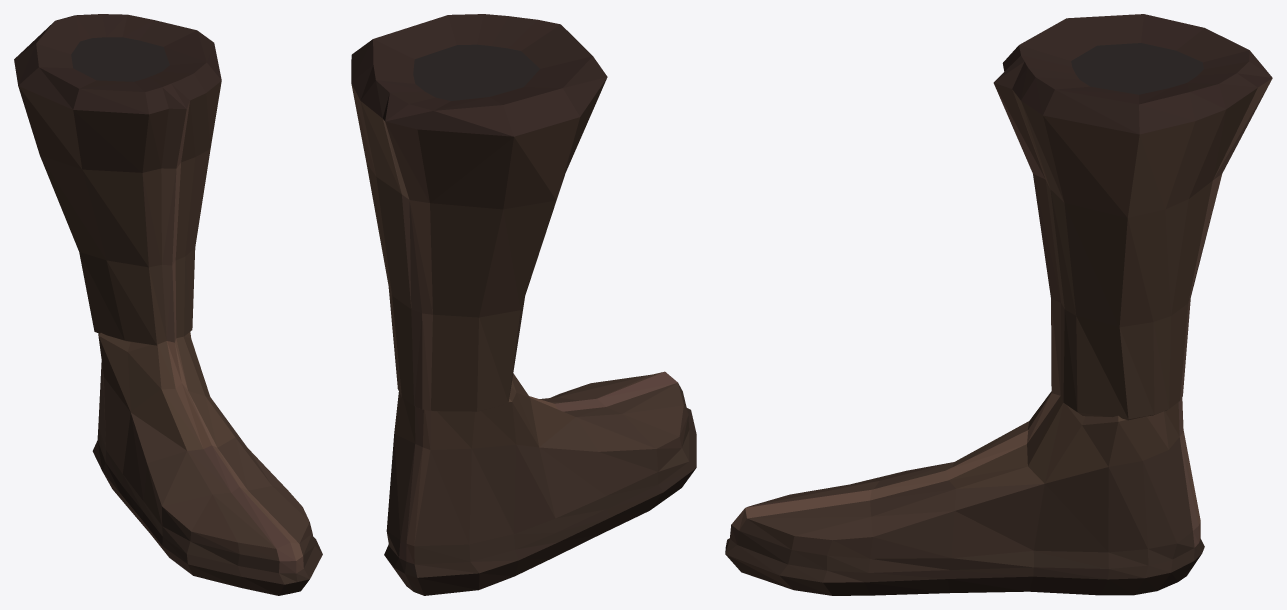
Rendered from peasantBootsFemale.glb.
3 renders of one model, left to right at view 1: azimuth 30°, elevation 25°; view 2: azimuth 150°, elevation 25°; view 3: azimuth 270°, elevation 25°, orthographic. The views are drawn at different scales.
Parts seen in each view (by area): view 1: peasantBootLowerLeg, peasantBootFootLeg; view 2: peasantBootLowerLeg, peasantBootFootLeg; view 3: peasantBootLowerLeg, peasantBootFootLeg.
Part boxes in pixels (<box>): peasantBootLowerLeg: <box>14,14,221,345</box>; peasantBootFootLeg: <box>92,332,322,595</box>; peasantBootLowerLeg: <box>351,14,607,412</box>; peasantBootFootLeg: <box>384,371,696,595</box>; peasantBootLowerLeg: <box>993,14,1272,420</box>; peasantBootFootLeg: <box>725,391,1204,595</box>.
Bounding box in the file's own units: 0.1558 × 0.3312 × 0.3247.
